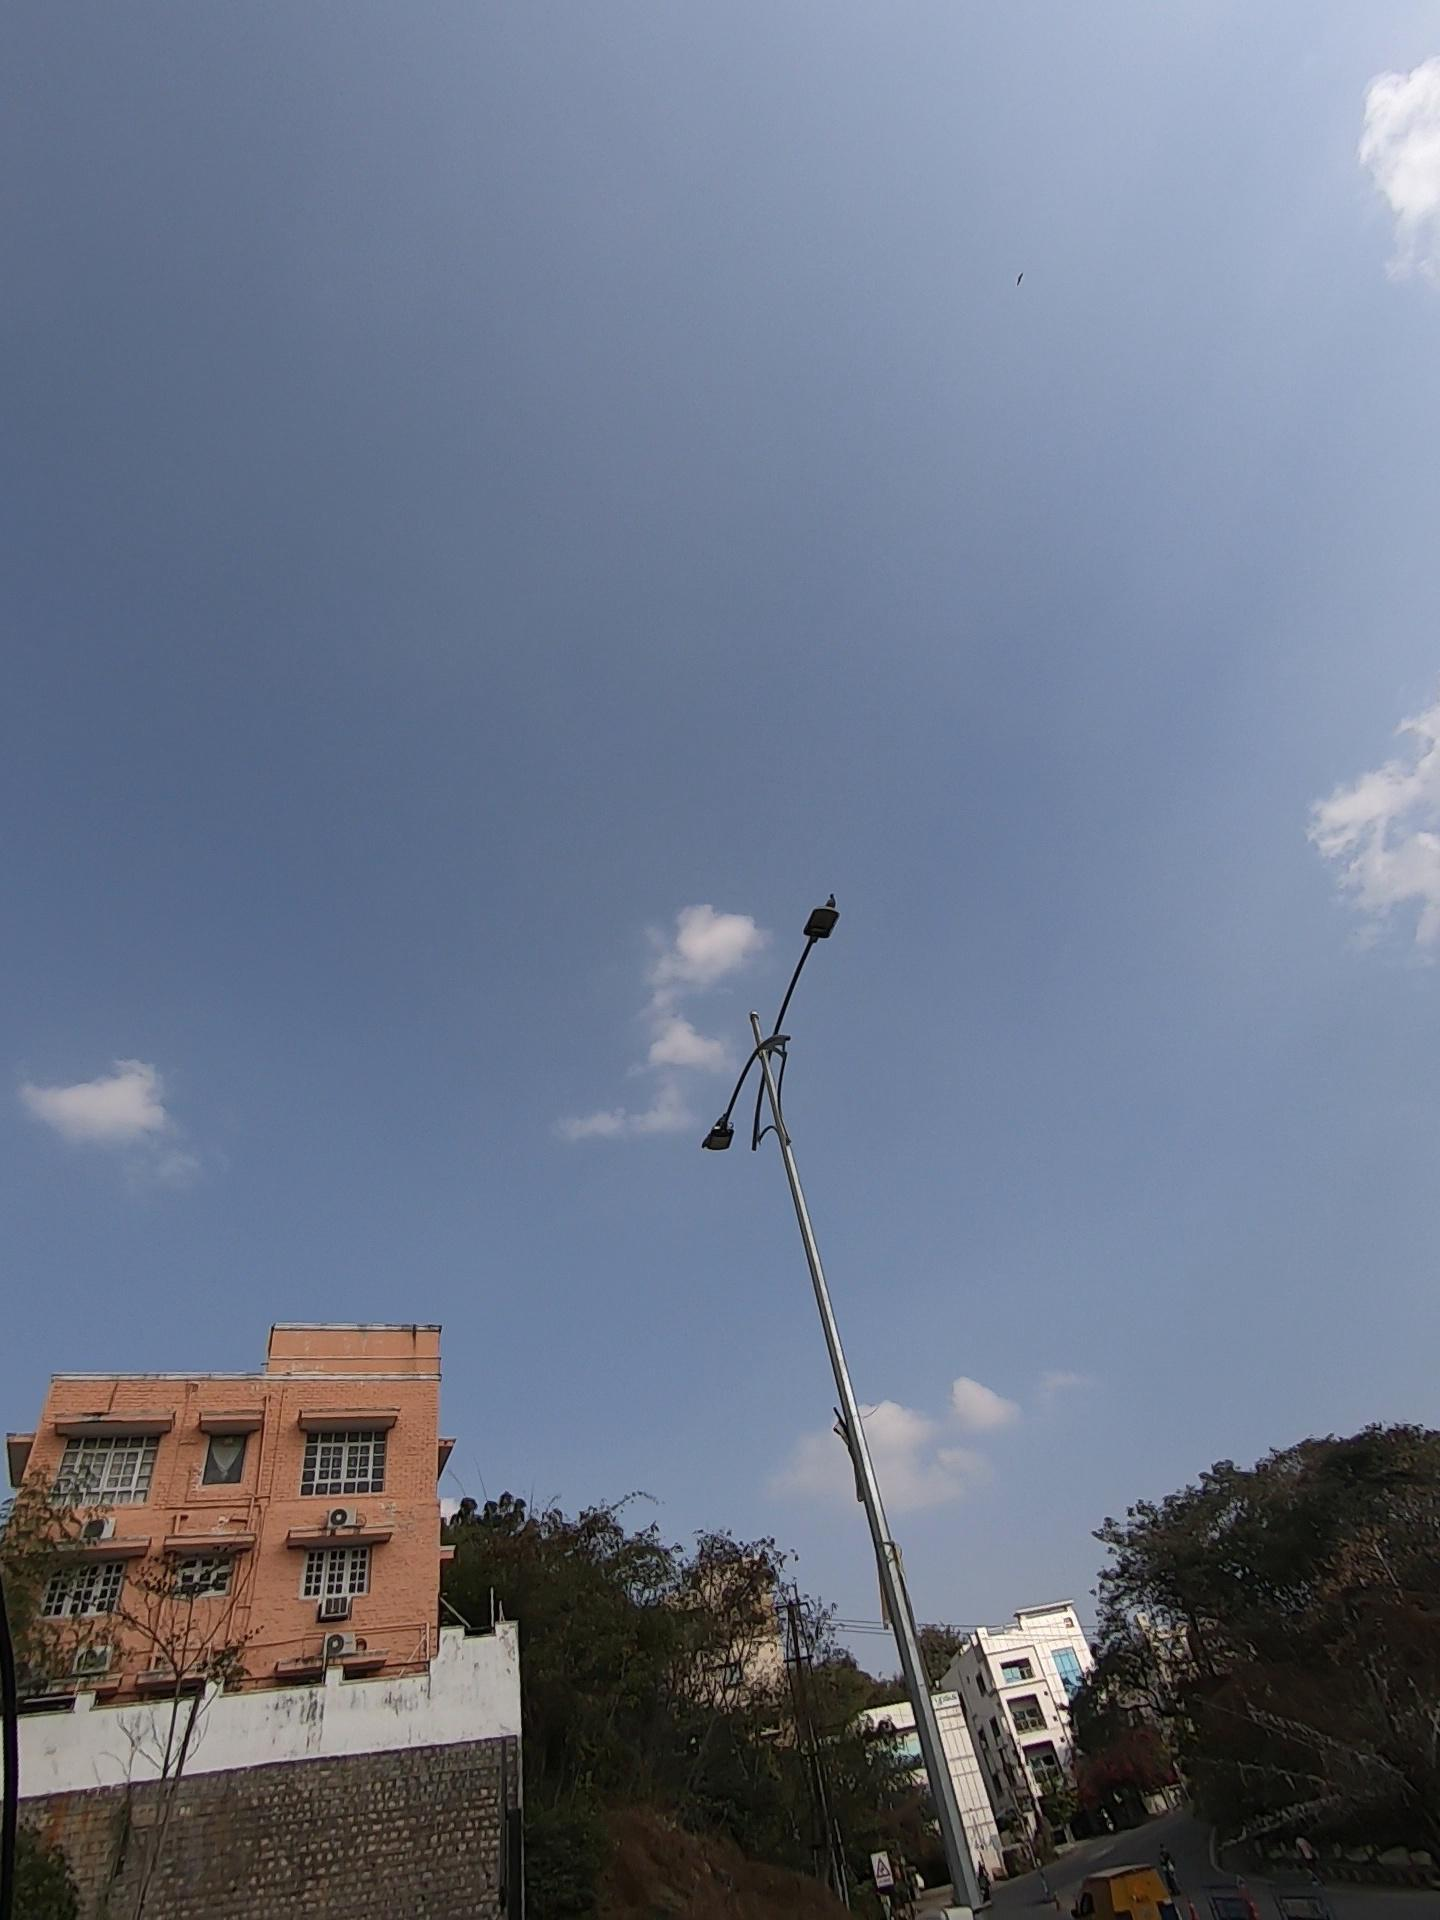off: (640, 821, 891, 1203)
